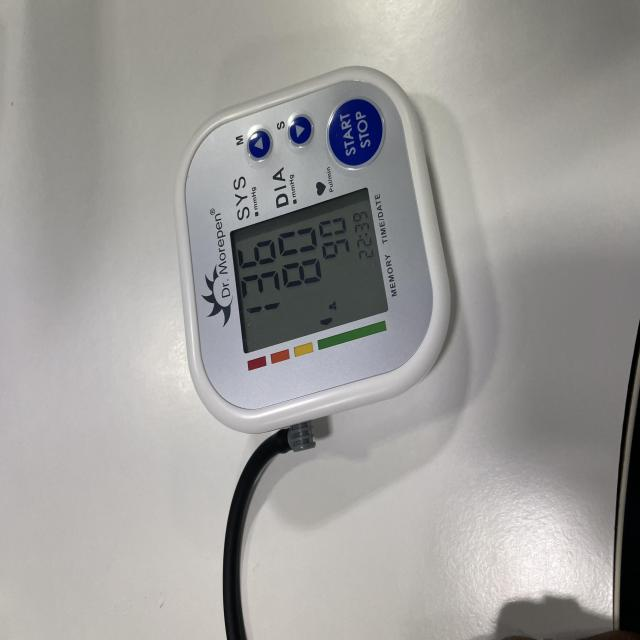bp: (174, 67, 447, 434)
